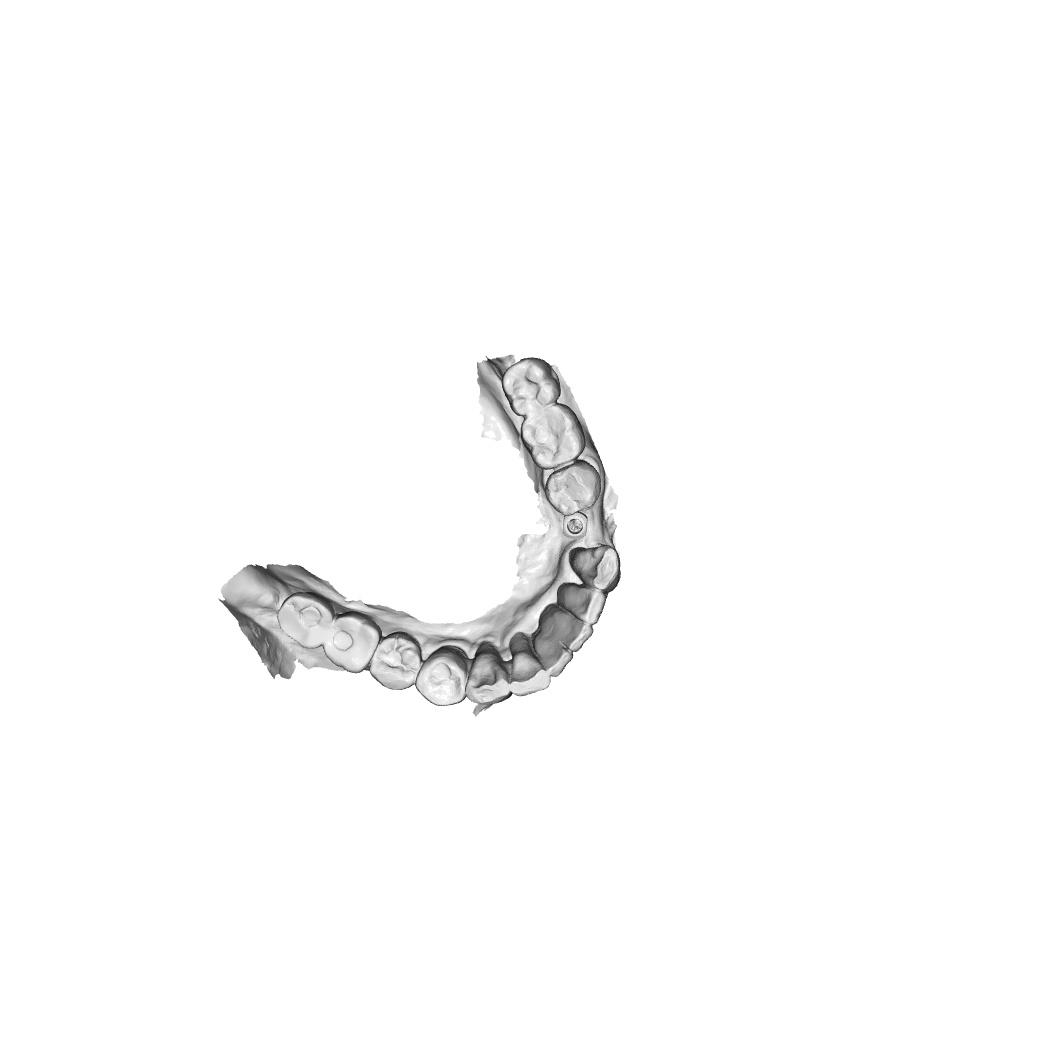canine: (464, 641, 513, 707), (568, 545, 621, 594)
implant: (561, 511, 589, 540)
incisor: (507, 632, 551, 696), (540, 603, 594, 652), (556, 582, 607, 625), (531, 629, 574, 678)
molar: (520, 401, 585, 470), (323, 610, 383, 674), (275, 590, 335, 650), (501, 357, 561, 417)
premolar: (414, 644, 468, 707), (543, 459, 602, 516), (369, 630, 423, 691)
